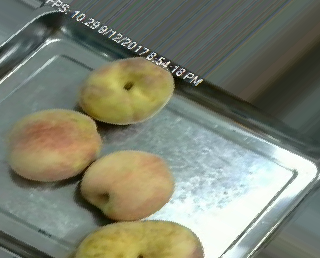Peach: (7, 108, 101, 182), (77, 57, 174, 124), (80, 151, 175, 218), (80, 217, 195, 256)
